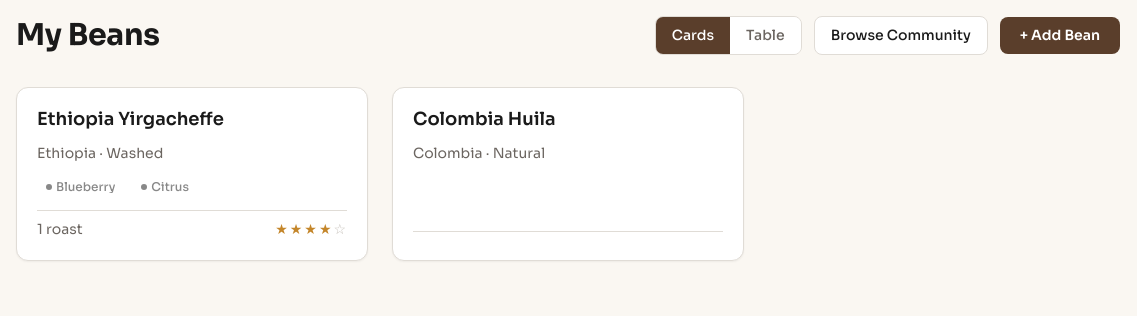
it: BeanLibraryPage › view toggle switches between card and table view
Expected: the element with test id "bean-card-grid" is shown, [16, 87, 744, 260]
Note: Switch to table view
Click the button "Table": click(765, 36) [730, 17, 801, 54]
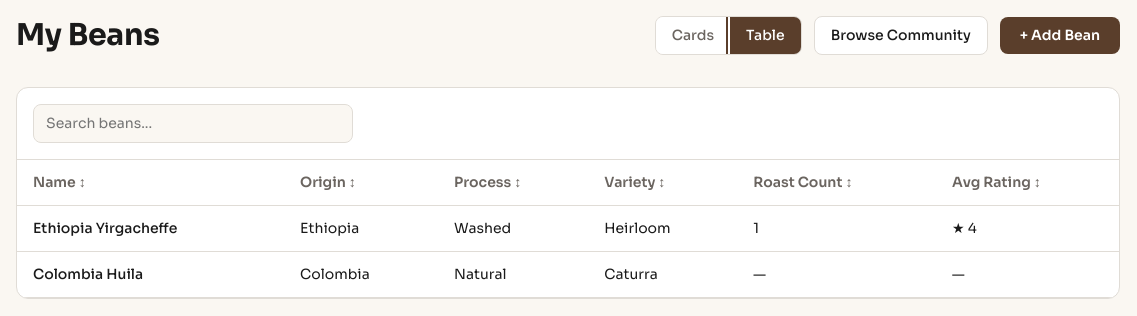
Expected: the element with test id "bean-table" is shown
Note: Switch back to card view
Click the button "Cards": click(693, 36) [656, 17, 730, 54]
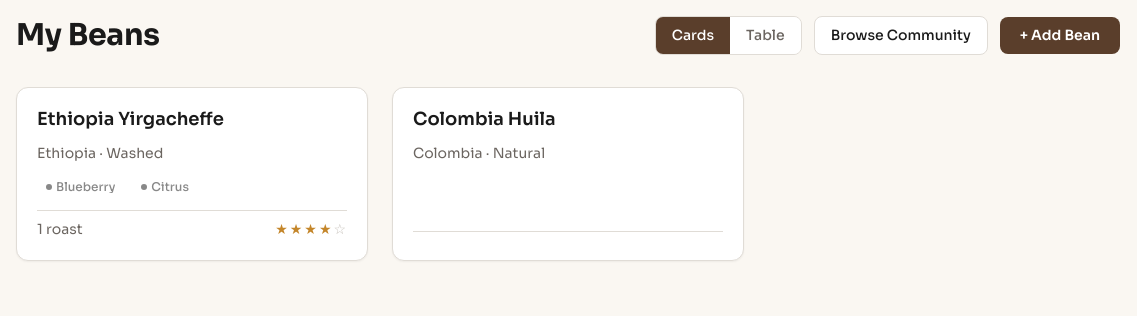
Expected: the element with test id "bean-card-grid" is shown, [16, 87, 744, 260]
